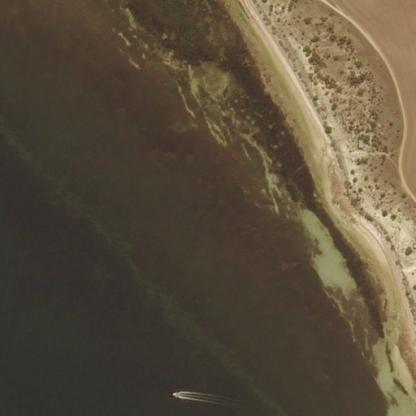ship: (3, 376, 6, 379)
